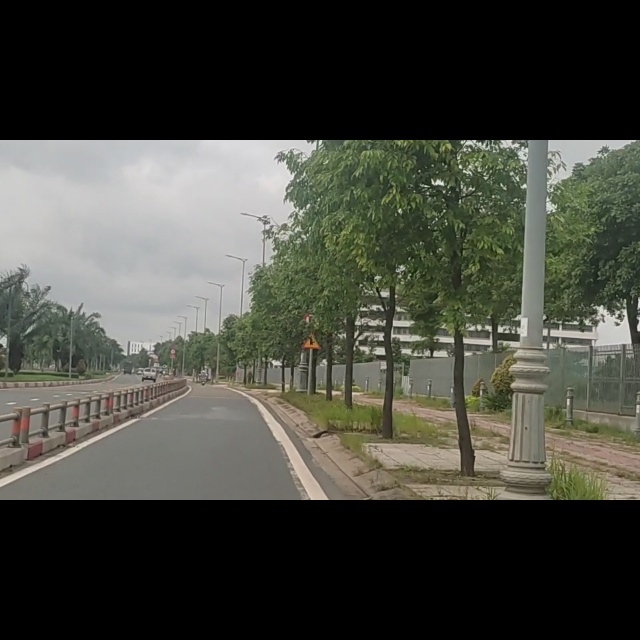bien_nguy_hiem: (301, 340, 322, 372)
